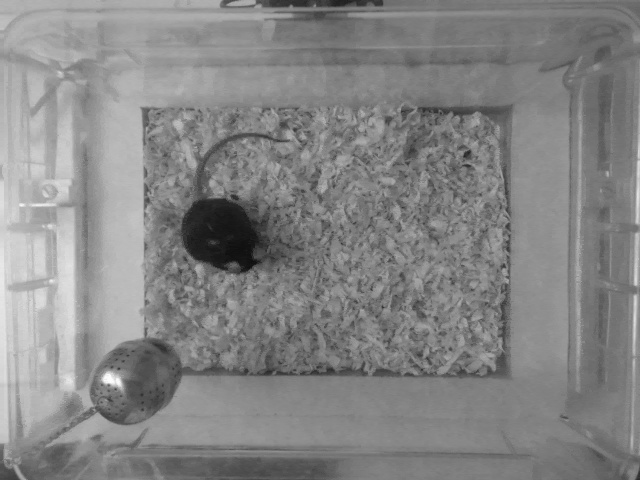mice: (170, 127, 287, 270)
